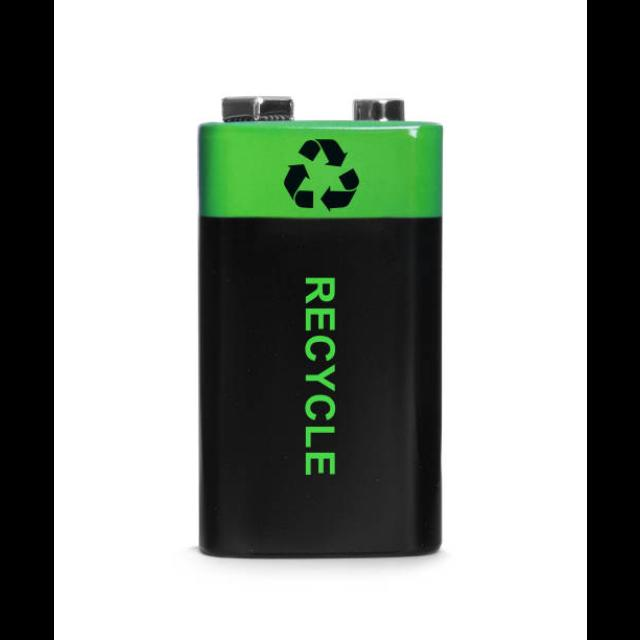Battery: (197, 95, 442, 561)
